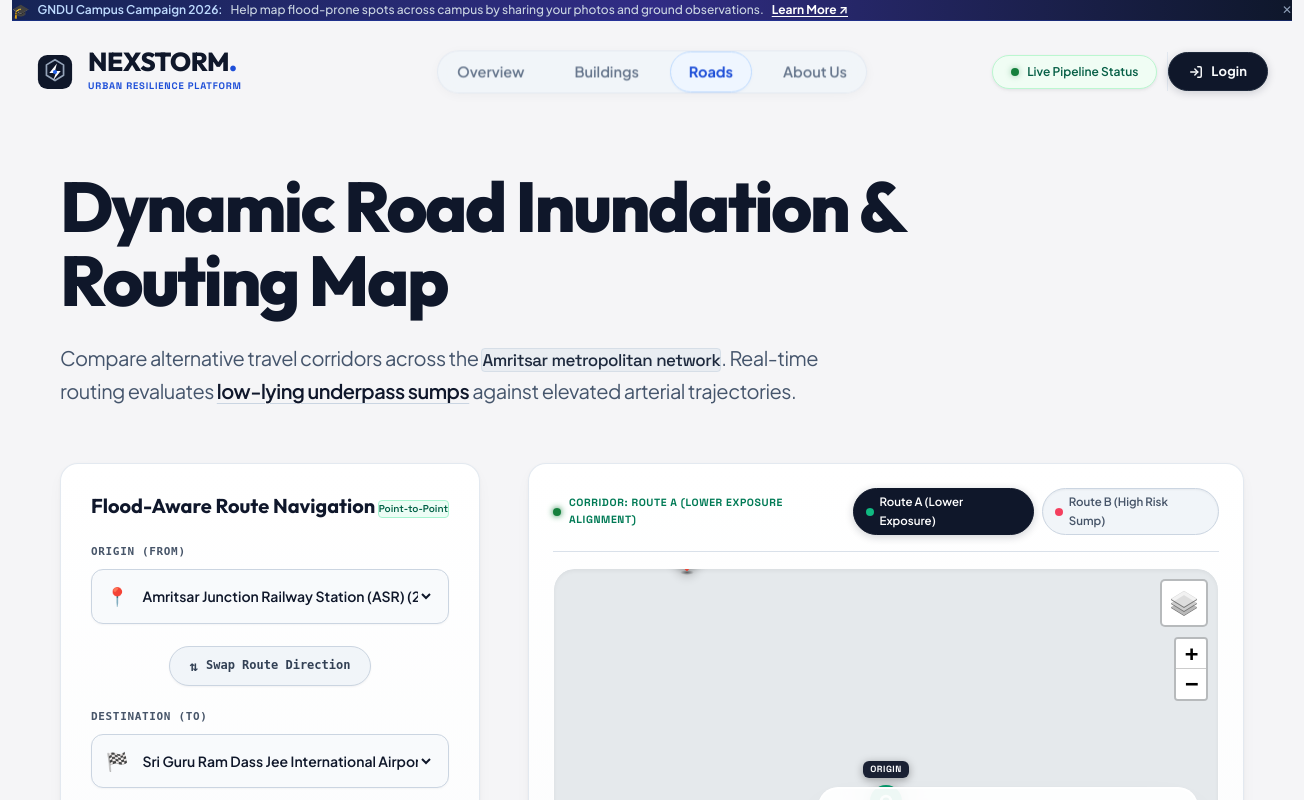
Test: FRONTEND_FINAL1 Integrated Experience › navigates to About Us tab and displays 6-stage system pipeline
Click the button "About Us": (815, 72) [764,51,866,92]
(page scrolled)
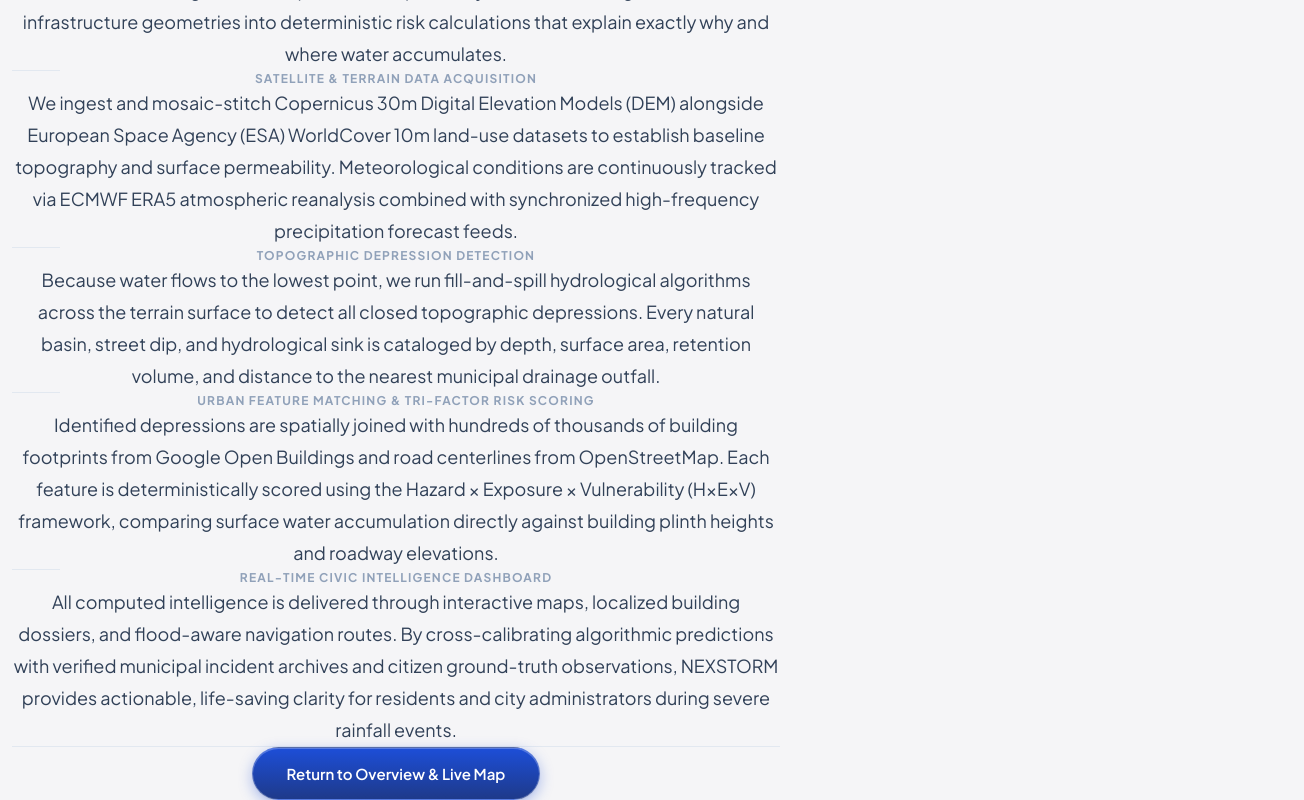
Now the heading "Satellite & Terrain Data Acquisition" is shown, box [255,71,537,86]
Now the heading "Topographic Depression Detection" is shown, box [257,248,535,263]
Now the heading "Real-Time Civic Intelligence Dashboard" is shown, box [240,570,552,585]
